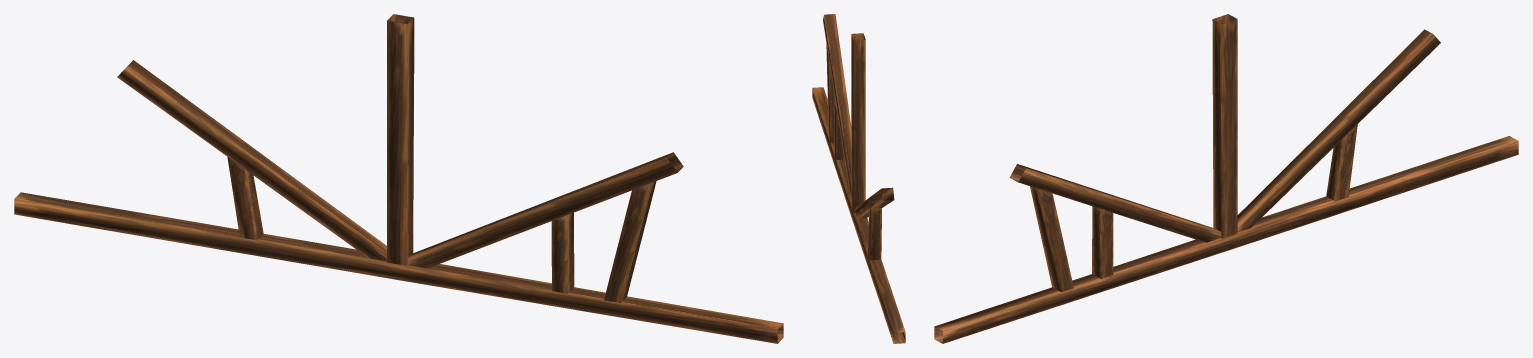
Rendered from SWORDLIGHT20_JAILCEILBRACKET18.fbx.
The picture shows the model from 3 angles, left to right: view 1: azimuth 30°, elevation 25°; view 2: azimuth 150°, elevation 25°; view 3: azimuth 270°, elevation 25°; orthographic projection. The views are drawn at different scales.
Visible parts, largest first — view 1: SWORDLIGHT20_JAILCEILBRACKET18; view 2: SWORDLIGHT20_JAILCEILBRACKET18; view 3: SWORDLIGHT20_JAILCEILBRACKET18.
Part boxes in pixels (x1,y1,x2,y2): SWORDLIGHT20_JAILCEILBRACKET18: (14, 14, 783, 343); SWORDLIGHT20_JAILCEILBRACKET18: (812, 14, 905, 343); SWORDLIGHT20_JAILCEILBRACKET18: (934, 14, 1518, 343).
Bounding box in the file's own units: 90869 × 49666 × 115172.
Materials: 1 (1 with a texture image).
